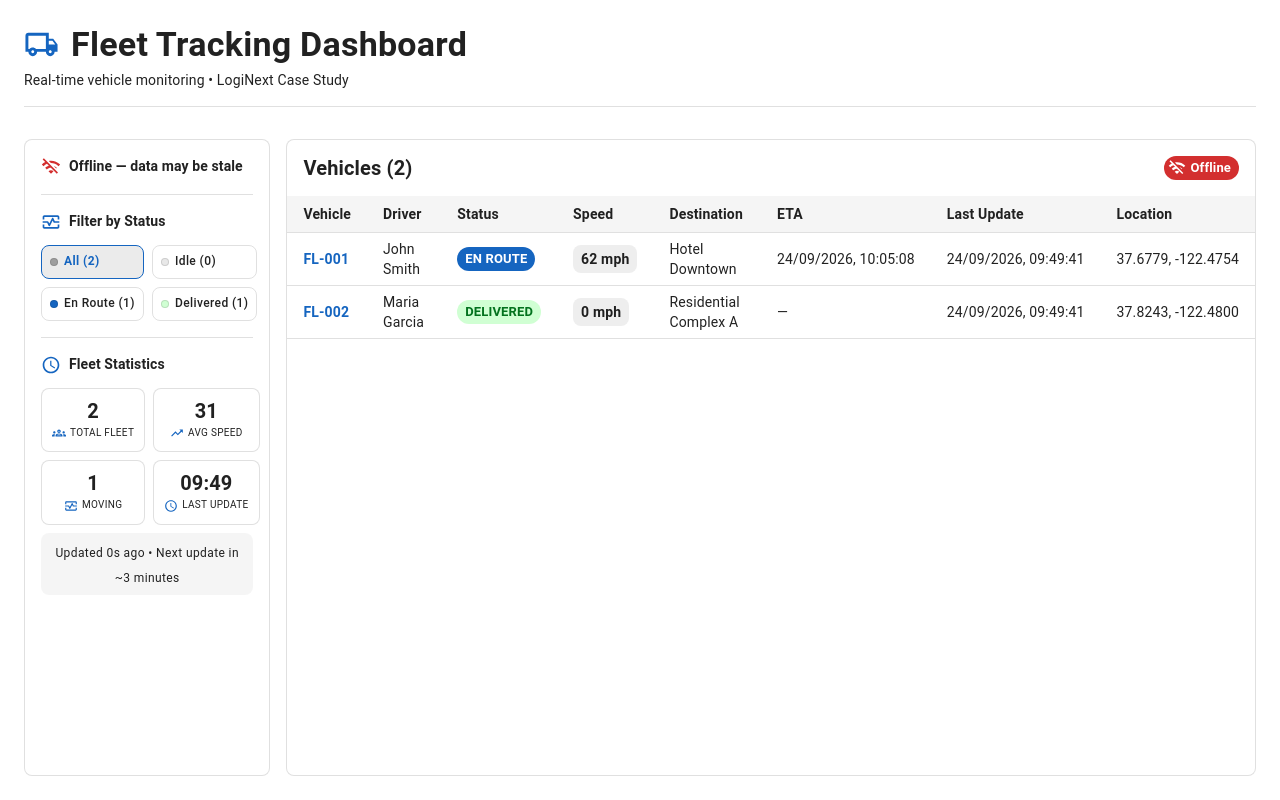
Test: VehicleDetailModal › renders severity colors for battery/fuel progress bars at low and high levels
Step 1. Click the text "FL-001" → point(327, 260), box [287, 233, 367, 286]
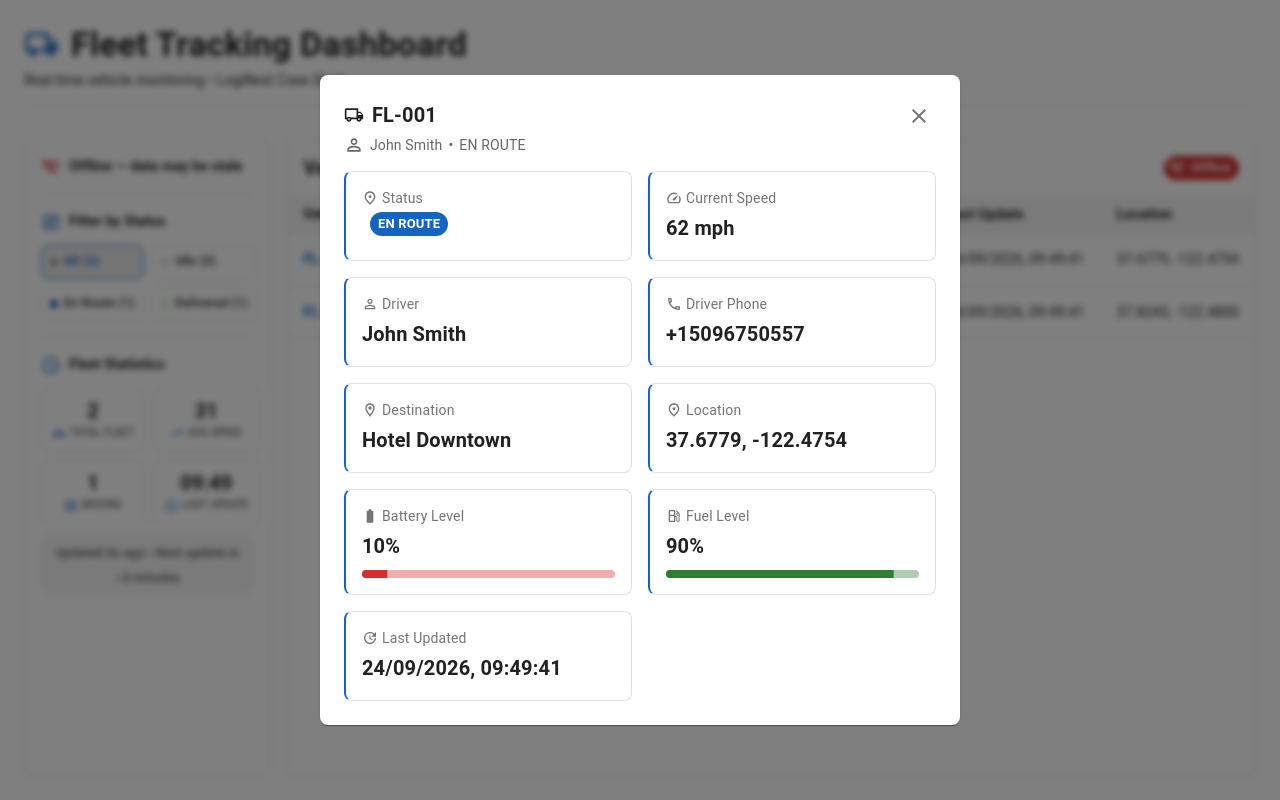
Expected: the number of progress indicators is 2, [362, 570, 615, 578]; [666, 570, 919, 578]
